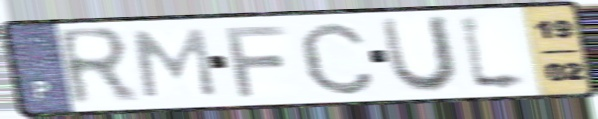C: (294, 19, 380, 98)
F: (220, 23, 292, 99)
L: (455, 11, 537, 95)
M: (128, 26, 221, 100)
R: (53, 24, 144, 110)
U: (375, 13, 462, 96)
